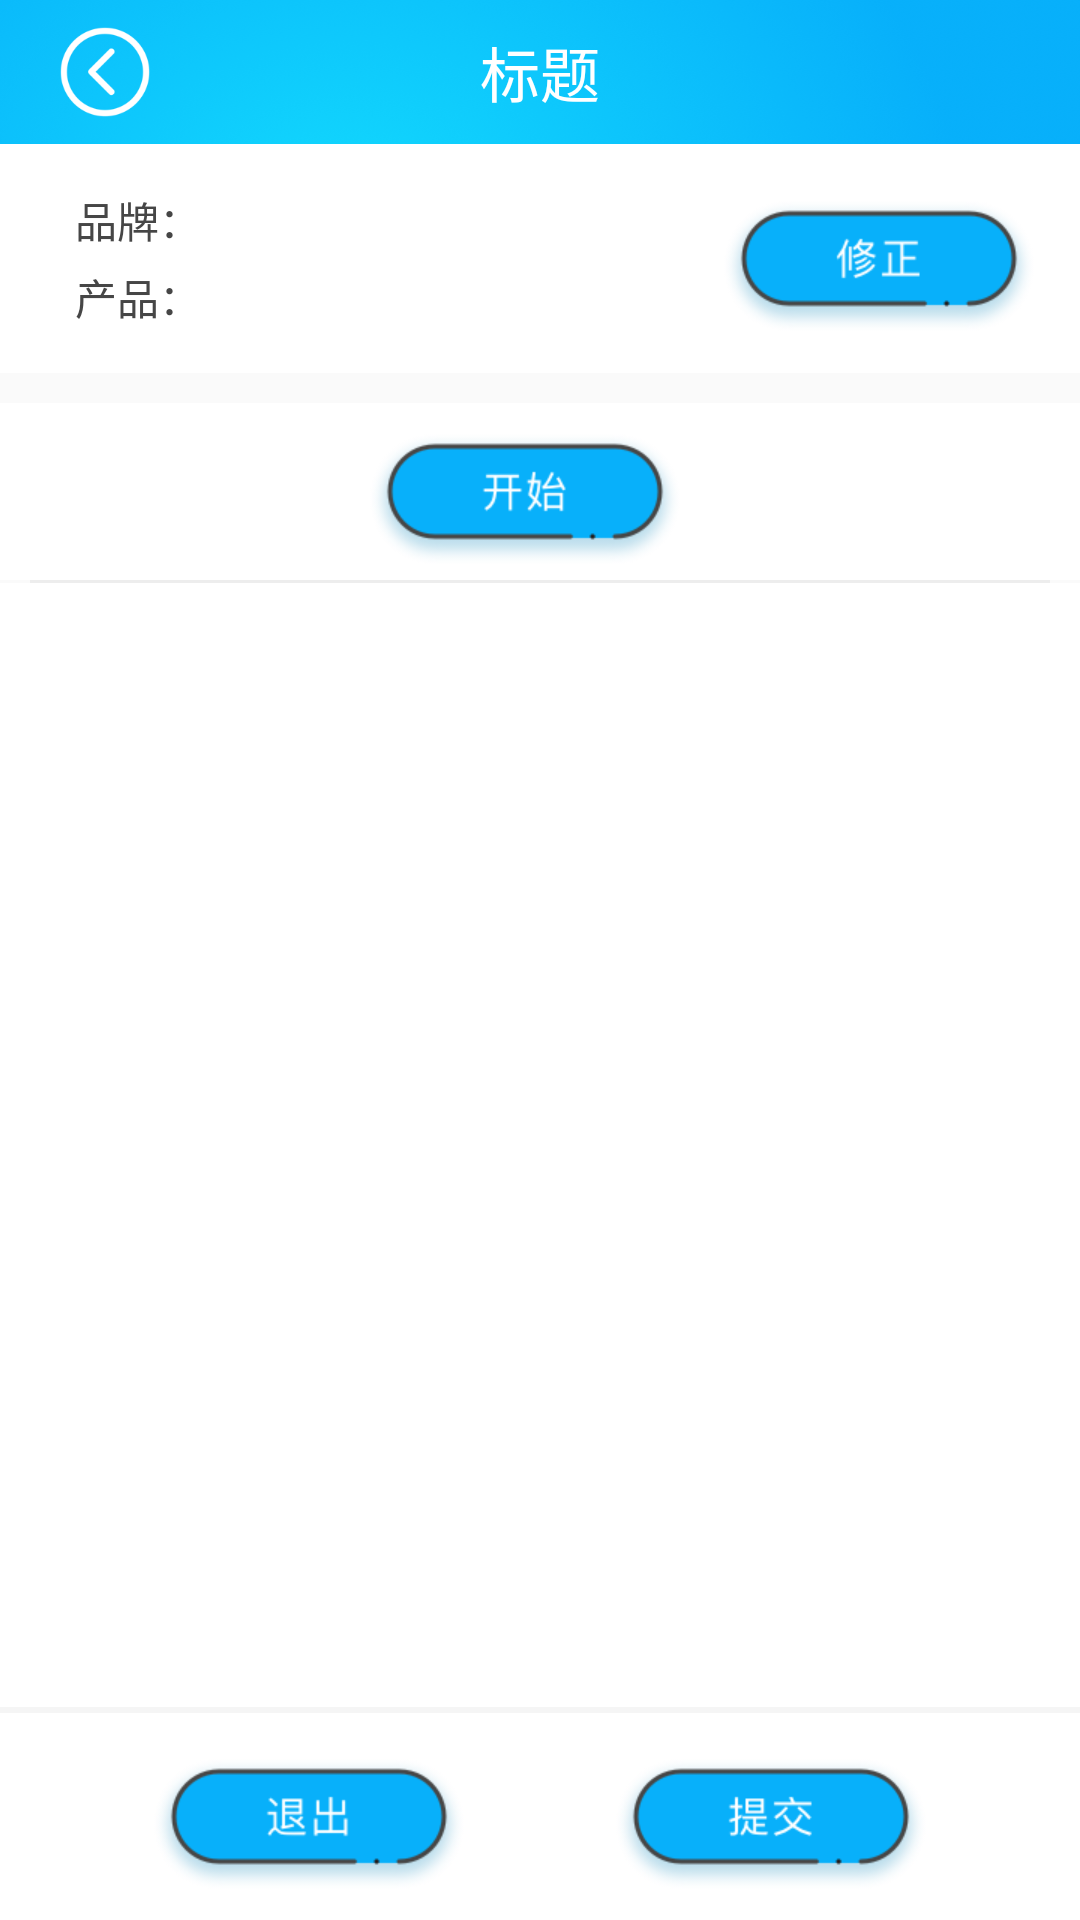

Locate icon controls on the screen. Image size 1080px x 1920px, boxes as (x1, y1, x2, y2).
back: (60, 27, 150, 117)
